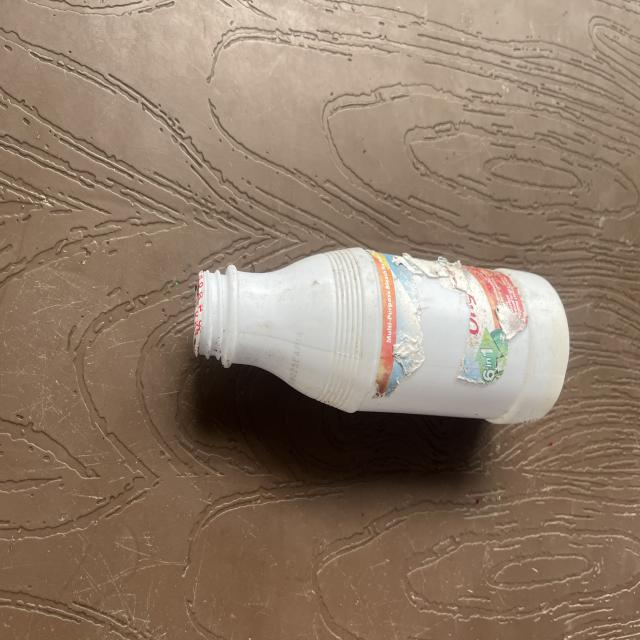REJECT: (145, 227, 578, 437)
